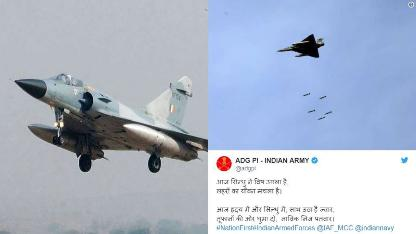Mirage2000: (9, 72, 208, 172), (276, 33, 324, 57)
